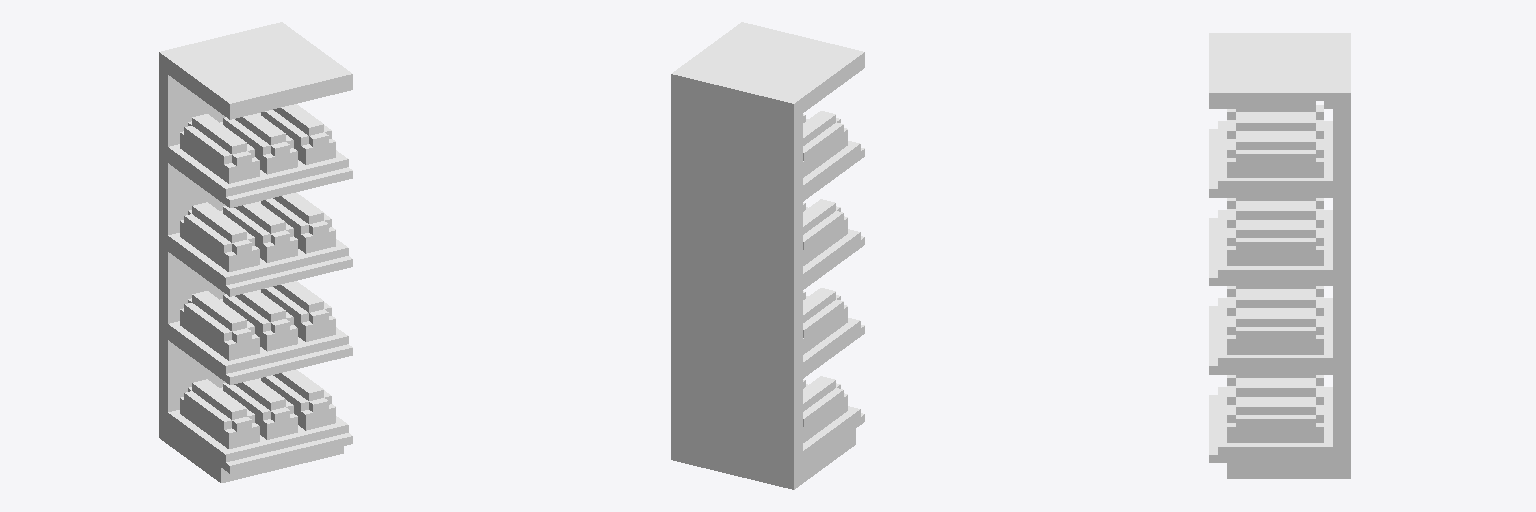
The model's file is fullBreadShelf.obj.
3 views of the same model, side by side, from view 1: azimuth 30°, elevation 25°; view 2: azimuth 150°, elevation 25°; view 3: azimuth 270°, elevation 25° (orthographic).
Visible parts, largest first — view 1: object 1; view 2: object 1; view 3: object 1.
Boxes of the visible parts, box(x1,y1,x2,y2) form: object 1: box(159, 22, 352, 482); object 1: box(671, 22, 864, 489); object 1: box(1209, 33, 1350, 478).
Size of the model in its own units: 1.6 by 4.8 by 1.6.